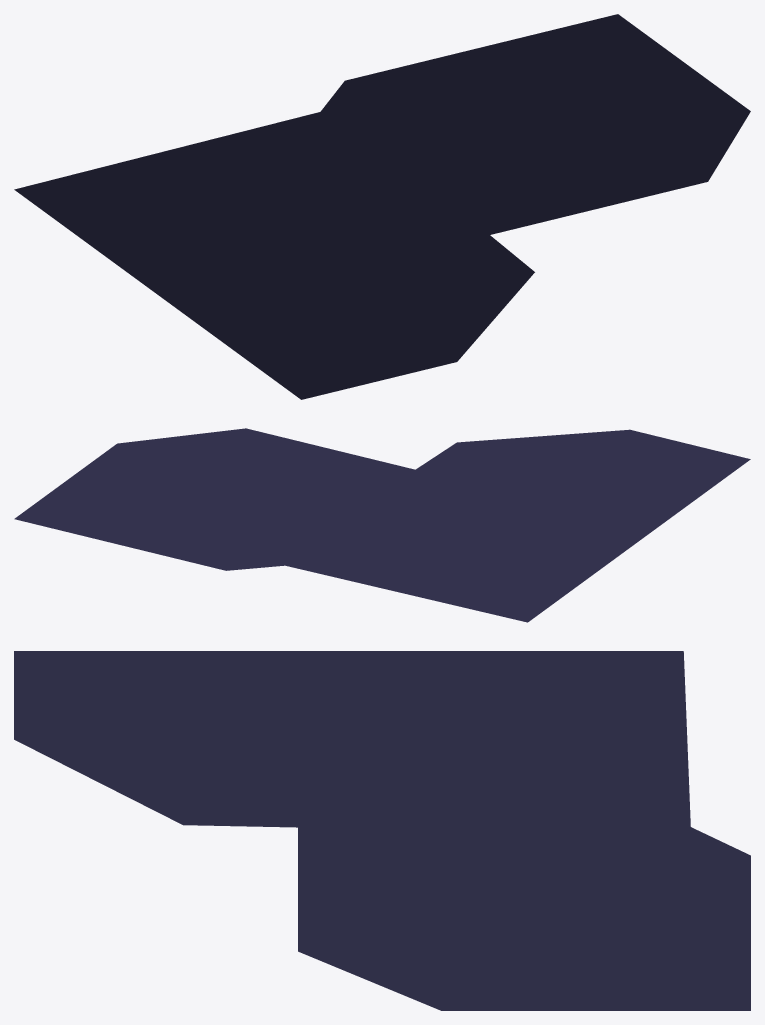
3 renders of one model, top to bottom at view 1: azimuth 30°, elevation 25°; view 2: azimuth 150°, elevation 25°; view 3: azimuth 270°, elevation 25°, orthographic. The views are drawn at different scales.
Visible parts, largest first — view 1: Joint_0_Object_0; view 2: Joint_0_Object_0; view 3: Joint_0_Object_0.
Boxes of the visible parts, x1,y1,x2,y2 form: Joint_0_Object_0: (14,14,750,399); Joint_0_Object_0: (14,428,750,622); Joint_0_Object_0: (14,651,750,1010).
Size of the model in its own units: 2130 by 0 by 1843.
1 material, 1 textured.
